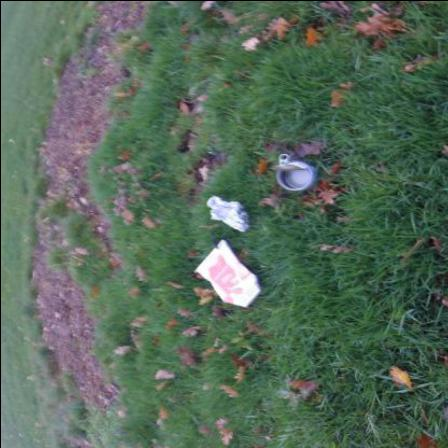Aluminium foil: (207, 195, 251, 231)
Can: (274, 154, 318, 192)
Carton: (196, 239, 262, 307)
Pop tab: (280, 154, 288, 166)
Straw: (210, 234, 218, 249)
